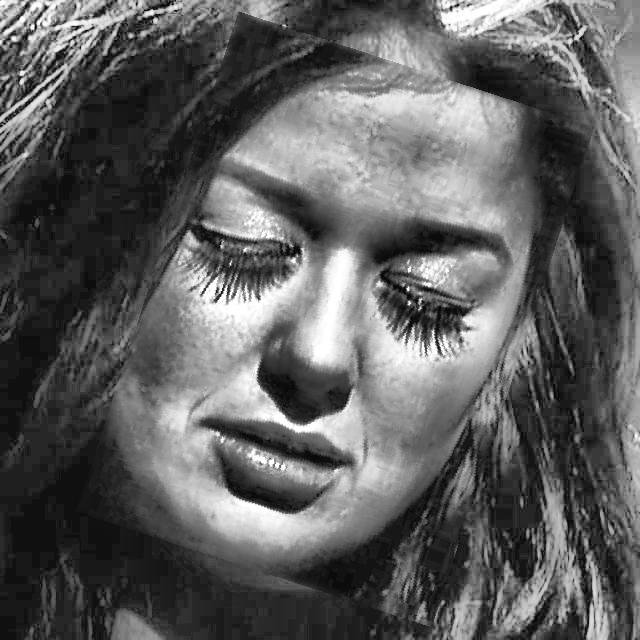sad: (112, 35, 558, 605)
